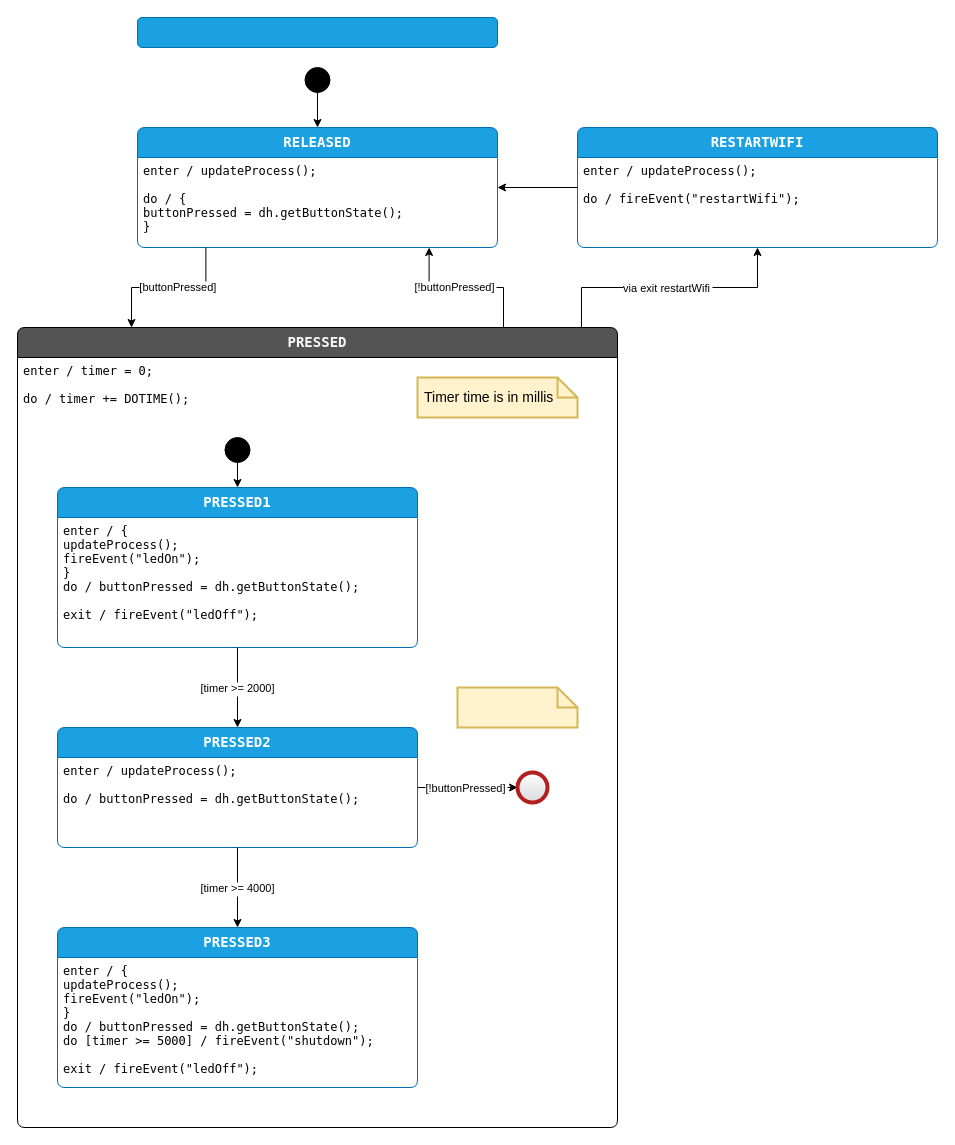
The diagram is 955 pixels wide and 1145 high, and some of its shapes have lost their labels. The centre of each missing label's shape, as x and y in pixels:
$STATEMACHINE : {fileName}: the point at 317,32
exit : restartWifi: the point at 532,787
Restart wifi upon release: the point at 517,707
